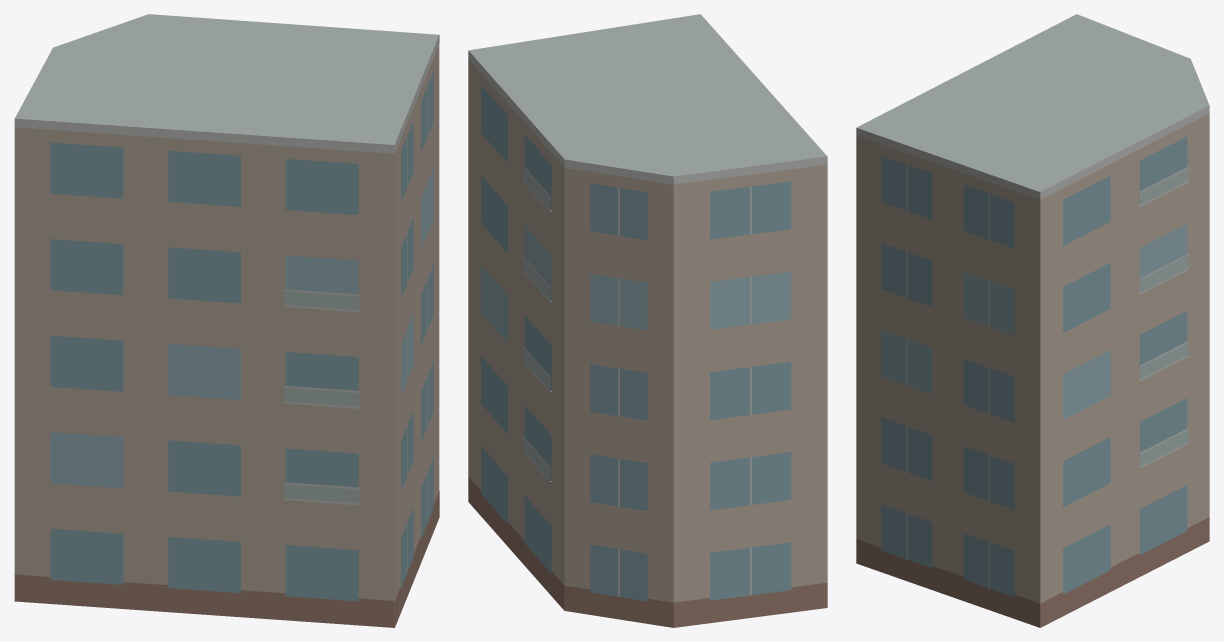
The model's file is survey-upis-32871160.glb.
The picture shows the model from 3 angles, left to right: view 1: azimuth 30°, elevation 25°; view 2: azimuth 150°, elevation 25°; view 3: azimuth 270°, elevation 25°; orthographic projection. The views are drawn at different scales.
Visible parts, largest first — view 1: survey-upis-32871160.tmp; view 2: survey-upis-32871160.tmp; view 3: survey-upis-32871160.tmp.
Boxes of the visible parts, left/top/right/bottom form: survey-upis-32871160.tmp: left=14, top=14, right=439, bottom=627; survey-upis-32871160.tmp: left=468, top=14, right=827, bottom=627; survey-upis-32871160.tmp: left=856, top=14, right=1209, bottom=627.
Size of the model in its own units: 11.84 by 13.5 by 9.93.
